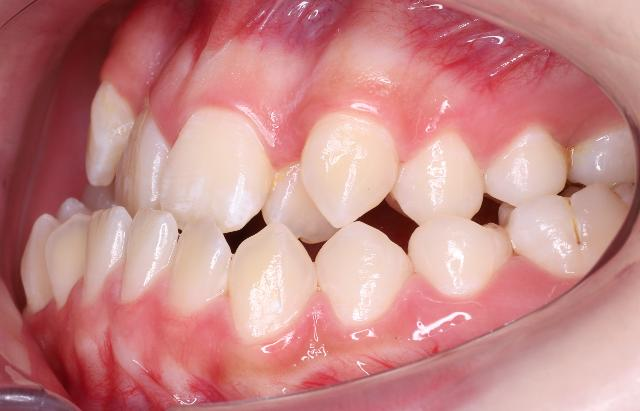canine class III 1/4: (227, 107, 413, 354)
